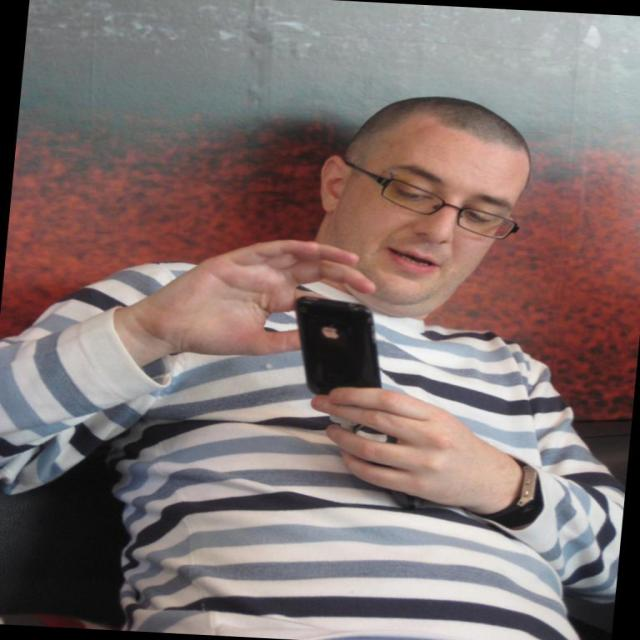phone: (294, 290, 384, 416)
